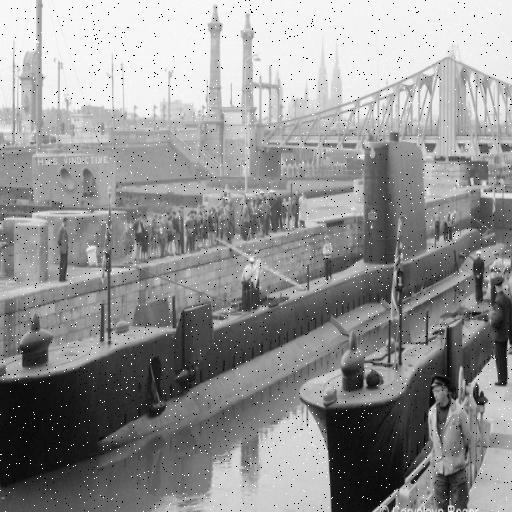submarine: (1, 120, 496, 499), (293, 124, 512, 512)
